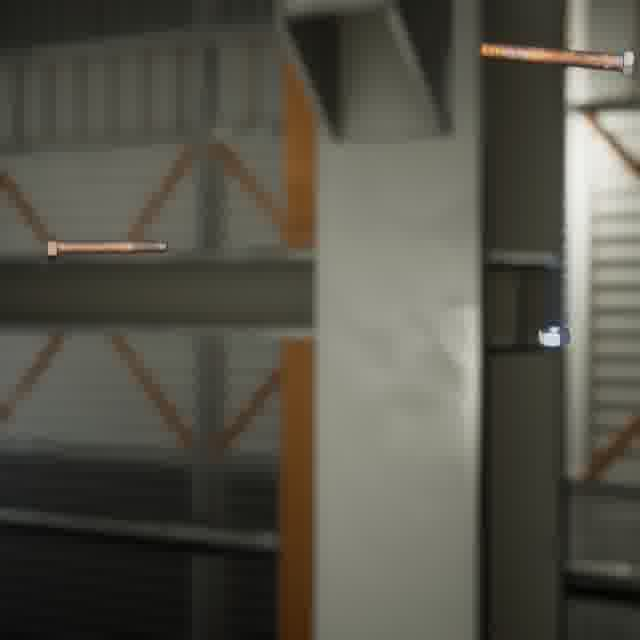bolt: (476, 38, 639, 81), (40, 229, 172, 265)
nut: (534, 321, 575, 351)
